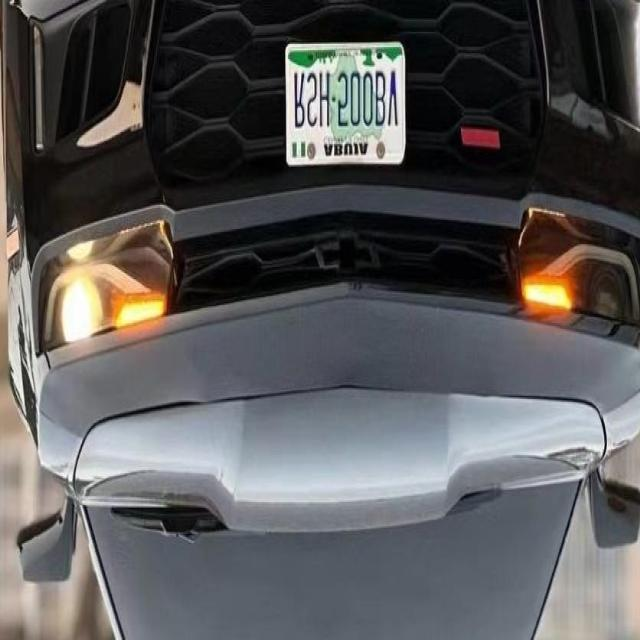Nigerian License Plate - vdataset benjamin-daria: (286, 36, 406, 172)
